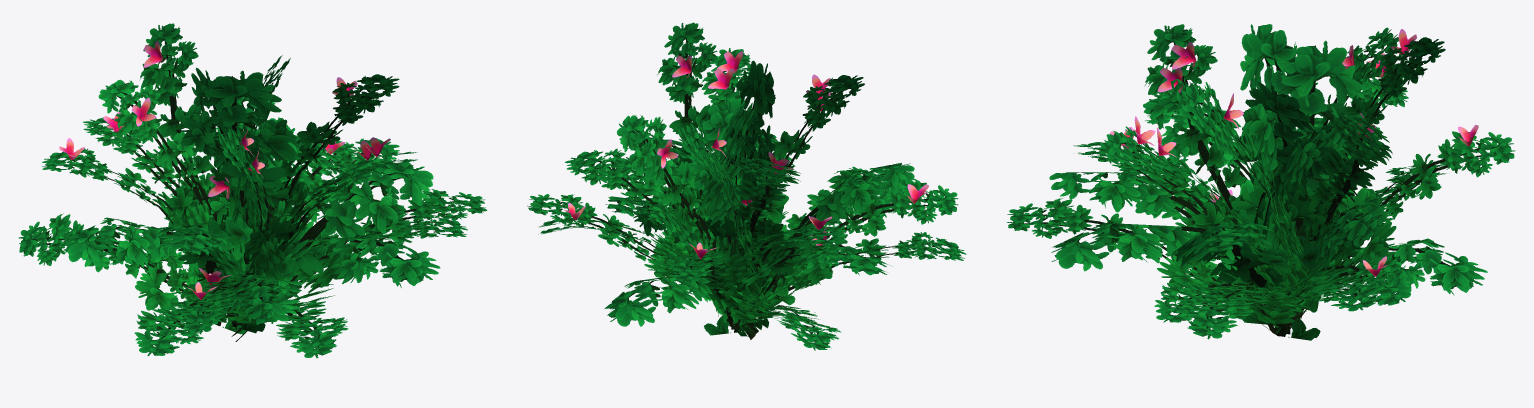
Rendered from SE_Bush_04.fbx.
3 views of the same model, side by side, from view 1: azimuth 30°, elevation 25°; view 2: azimuth 150°, elevation 25°; view 3: azimuth 270°, elevation 25° (orthographic). The views are drawn at different scales.
Parts seen in each view (by area): view 1: SE_Bush_04; view 2: SE_Bush_04; view 3: SE_Bush_04.
Boxes of the visible parts, box(x1,y1,x2,y2) form: SE_Bush_04: box(19, 23, 487, 358); SE_Bush_04: box(527, 22, 966, 350); SE_Bush_04: box(1007, 24, 1515, 340).
Size of the model in its own units: 5.84 by 4.39 by 5.96.
